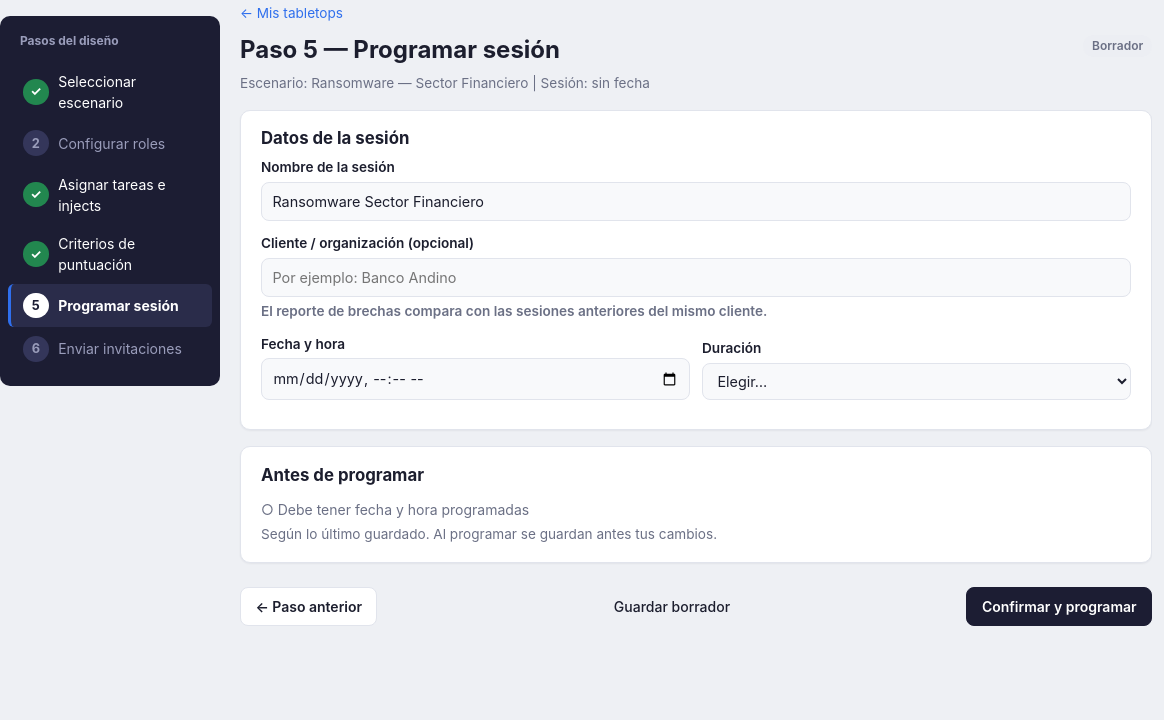
Test: DisenadorPage › paso 5: programa la sesión
The image size is (1164, 720).
Expected: the list item "Debe tener fecha y hora programadas" is shown, 278,501 -> 529,518
Select "1 h 30 min" in the dropdown labelled "Duración" at [916, 381], box 702,363 -> 1131,400
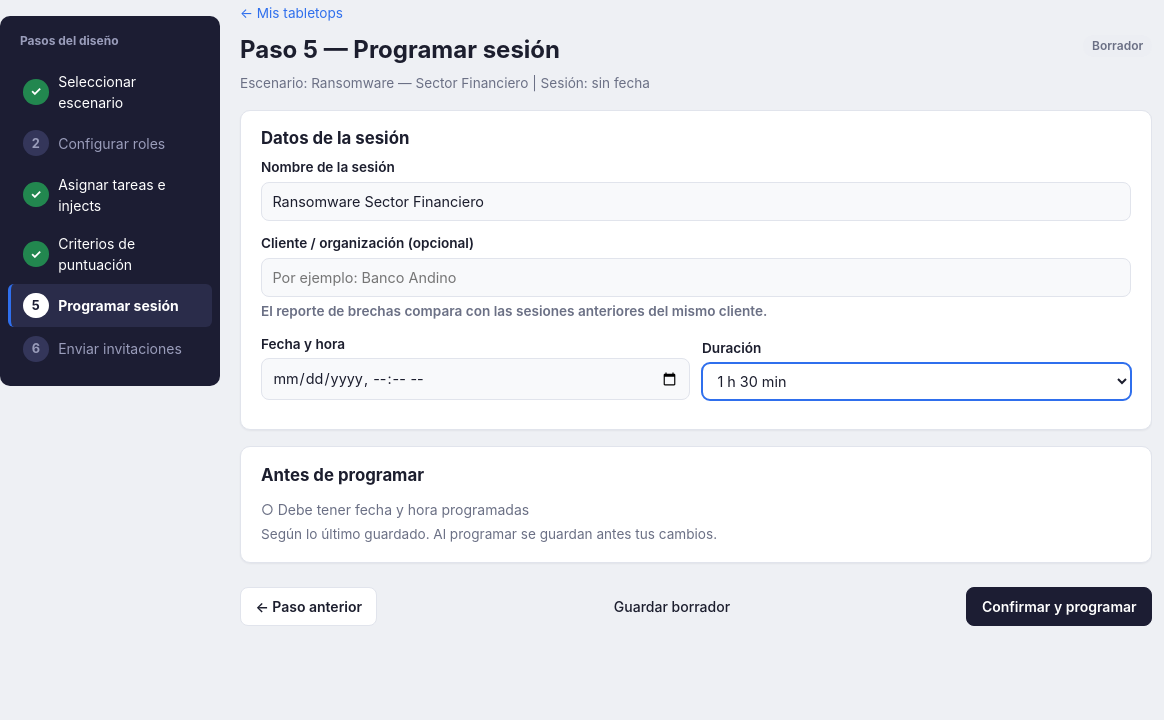
Click the button "Confirmar y programar" at [1059, 607], box 966,587 -> 1152,626
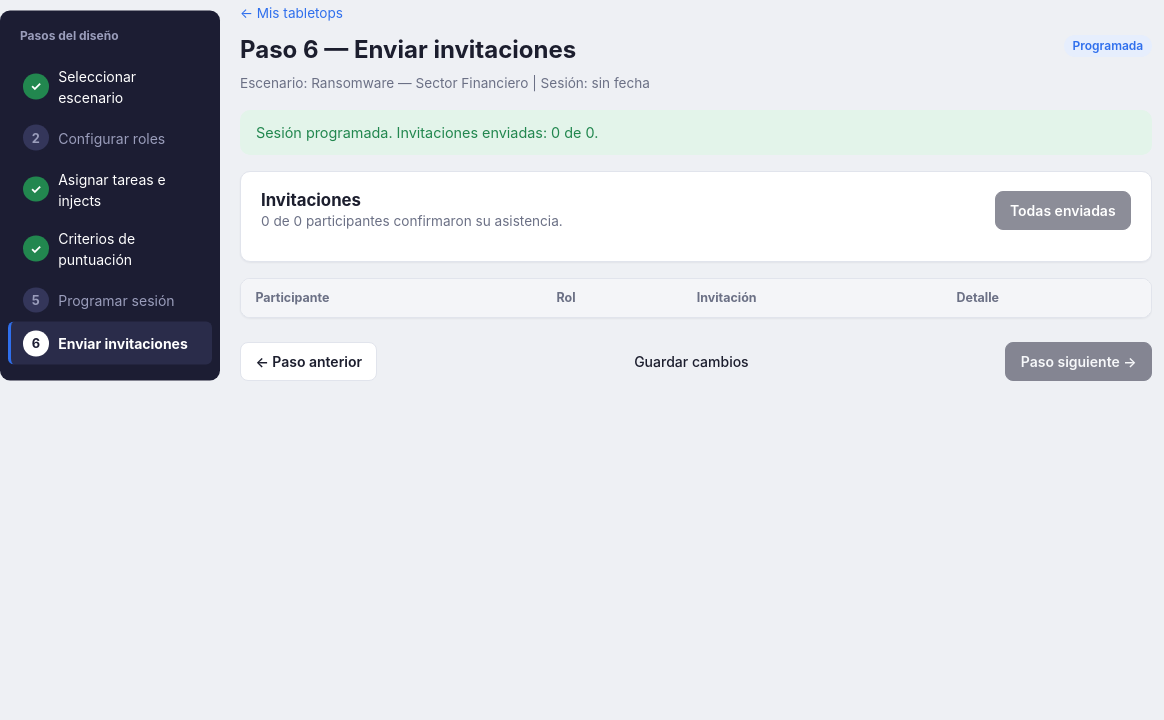
Expected: the text "Sesión programada. Invitaciones enviadas: 0 de 0." is shown, 240,110 -> 1152,155
Expected: the text "Programada" is shown, 1064,35 -> 1152,57
Expected: the heading "Paso 6 — Enviar invitaciones" is shown, 240,35 -> 576,64
